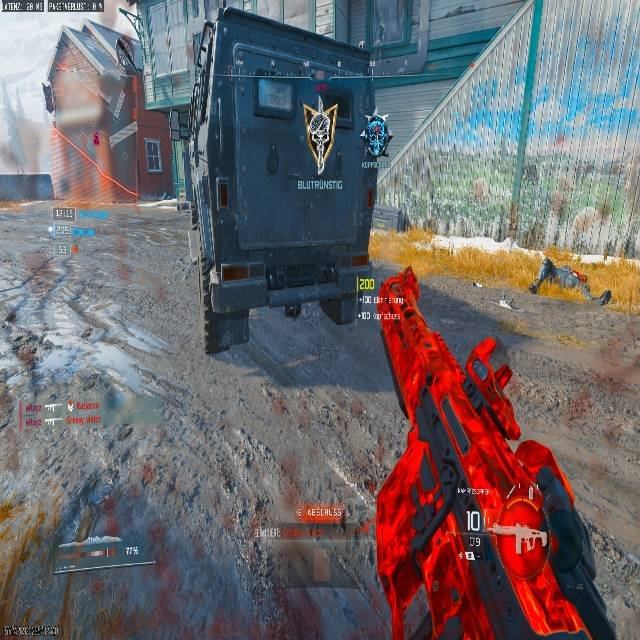head: (369, 112, 385, 126)
player: (41, 1, 143, 197), (359, 114, 392, 160)
